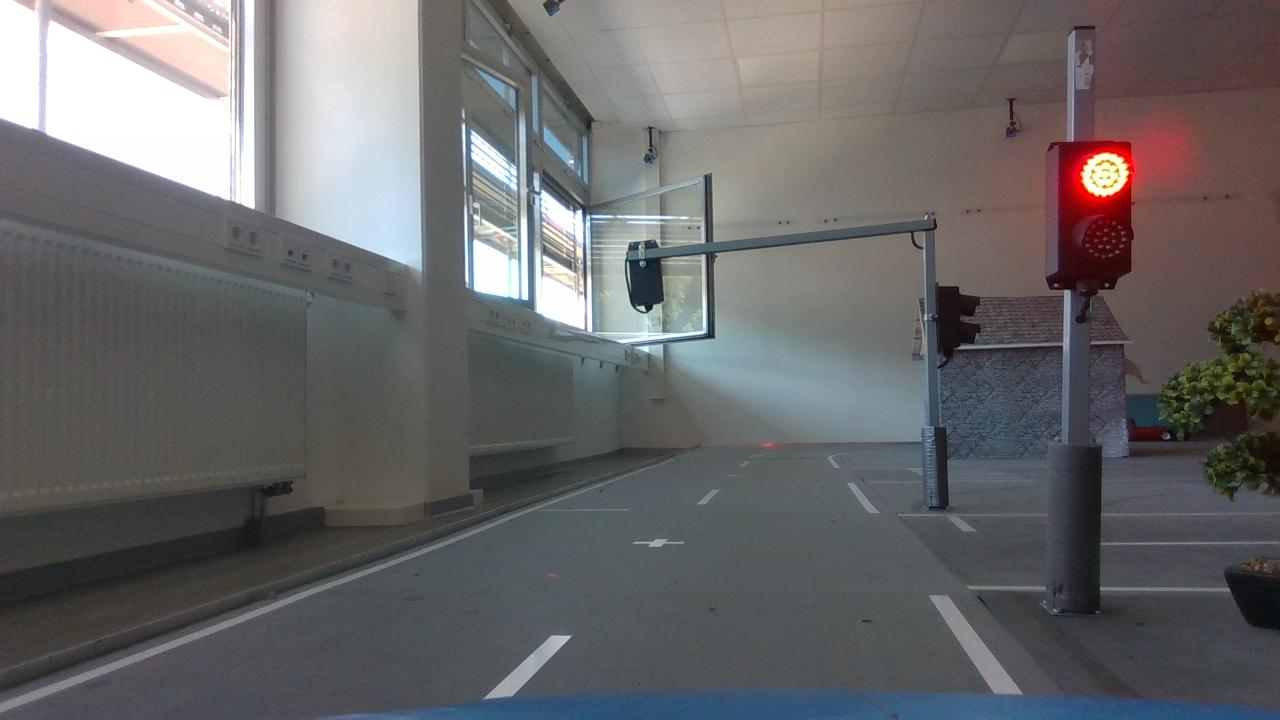traffic_light_red: (1018, 121, 1169, 314)
